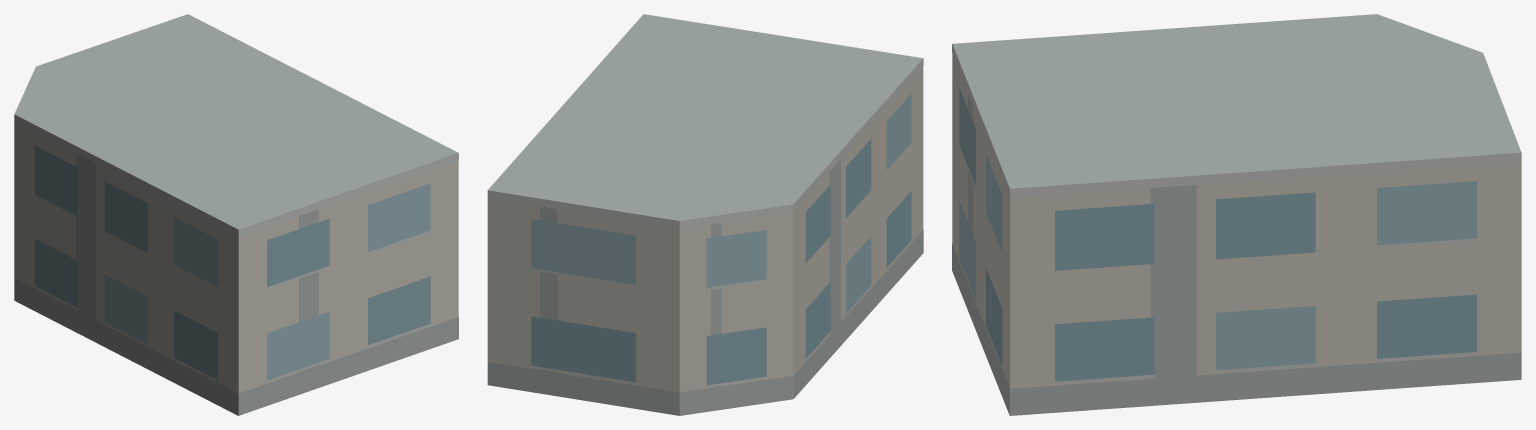
File: residential-308c5dd9-436b-4849-9a54-c939987e25c4.glb
3 views of the same model, side by side, from view 1: azimuth 30°, elevation 25°; view 2: azimuth 150°, elevation 25°; view 3: azimuth 270°, elevation 25° (orthographic). The views are drawn at different scales.
Parts seen in each view (by area): view 1: residential-308c5dd9-436b-4849-9a54-c939987e25c4.tmp; view 2: residential-308c5dd9-436b-4849-9a54-c939987e25c4.tmp; view 3: residential-308c5dd9-436b-4849-9a54-c939987e25c4.tmp.
Boxes of the visible parts, <box> form: residential-308c5dd9-436b-4849-9a54-c939987e25c4.tmp: <box>14,14,458,415</box>; residential-308c5dd9-436b-4849-9a54-c939987e25c4.tmp: <box>487,14,923,415</box>; residential-308c5dd9-436b-4849-9a54-c939987e25c4.tmp: <box>952,14,1521,415</box>.
Bounding box in the file's own units: 10.08 × 6.1 × 13.87.
